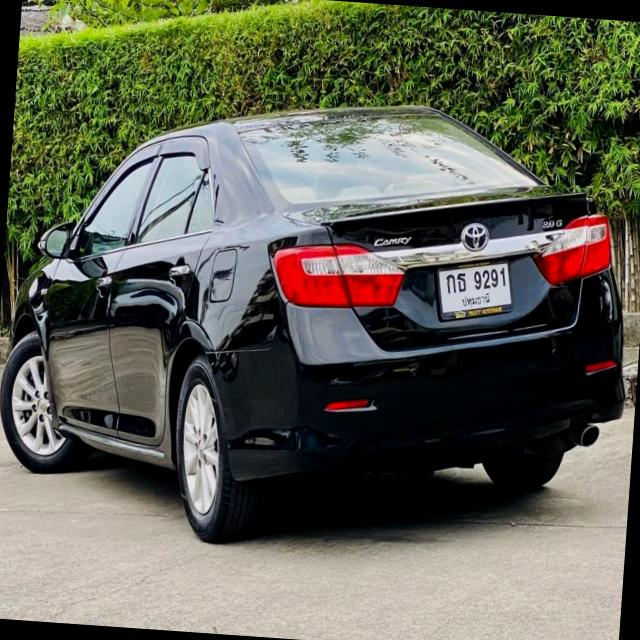license_plate: (429, 252, 516, 329)
